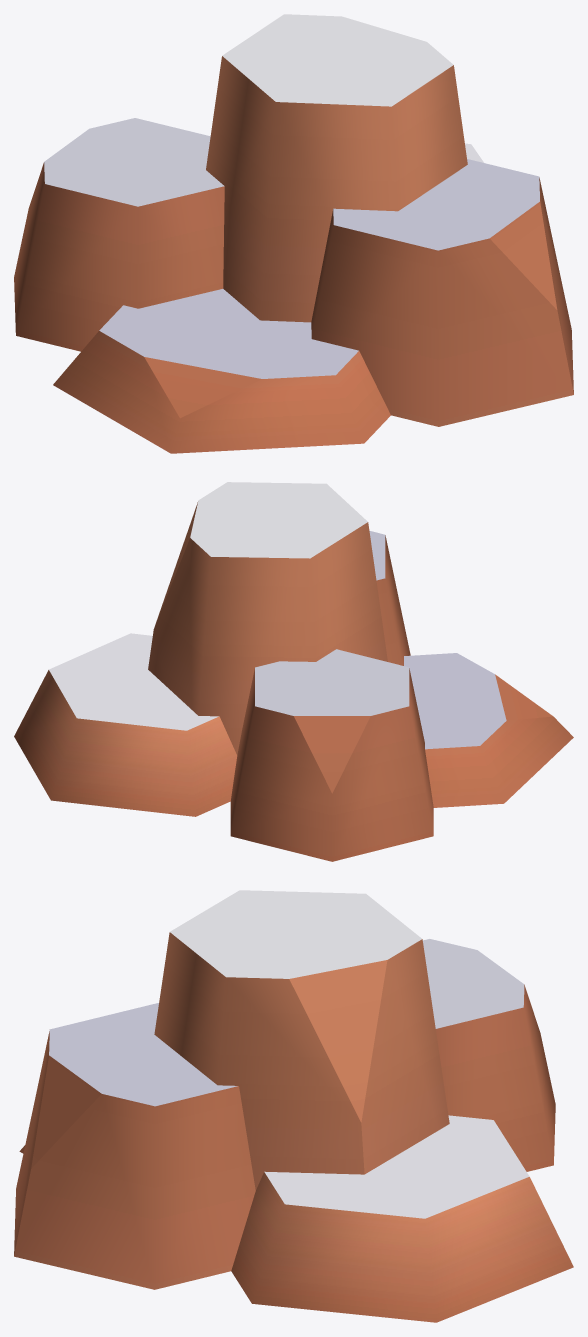
The model's file is kenney-tower-defense-snow-detail-dirt-large.glb.
The picture shows the model from 3 angles, top to bottom: view 1: azimuth 30°, elevation 25°; view 2: azimuth 150°, elevation 25°; view 3: azimuth 270°, elevation 25°; orthographic projection. The views are drawn at different scales.
Visible parts, largest first — view 1: snow-detail-dirt-large; view 2: snow-detail-dirt-large; view 3: snow-detail-dirt-large.
Boxes of the visible parts, x1=… form: snow-detail-dirt-large: x1=14, y1=14, x2=573, y2=453; snow-detail-dirt-large: x1=14, y1=482, x2=573, y2=861; snow-detail-dirt-large: x1=14, y1=890, x2=573, y2=1322.
Bounding box in the file's own units: 0.8531 × 0.4145 × 0.7785.
1 material, 1 textured.
